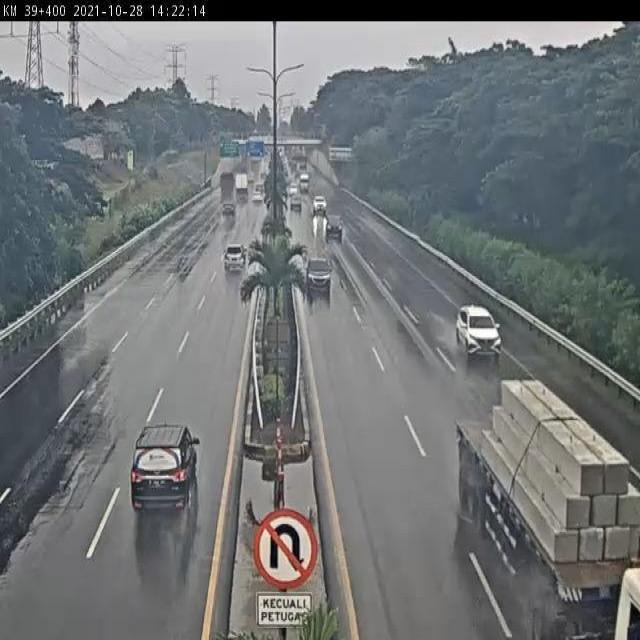car: (129, 423, 198, 513), (454, 299, 504, 359), (305, 255, 333, 295), (223, 241, 248, 276)
truck: (456, 370, 640, 640)
